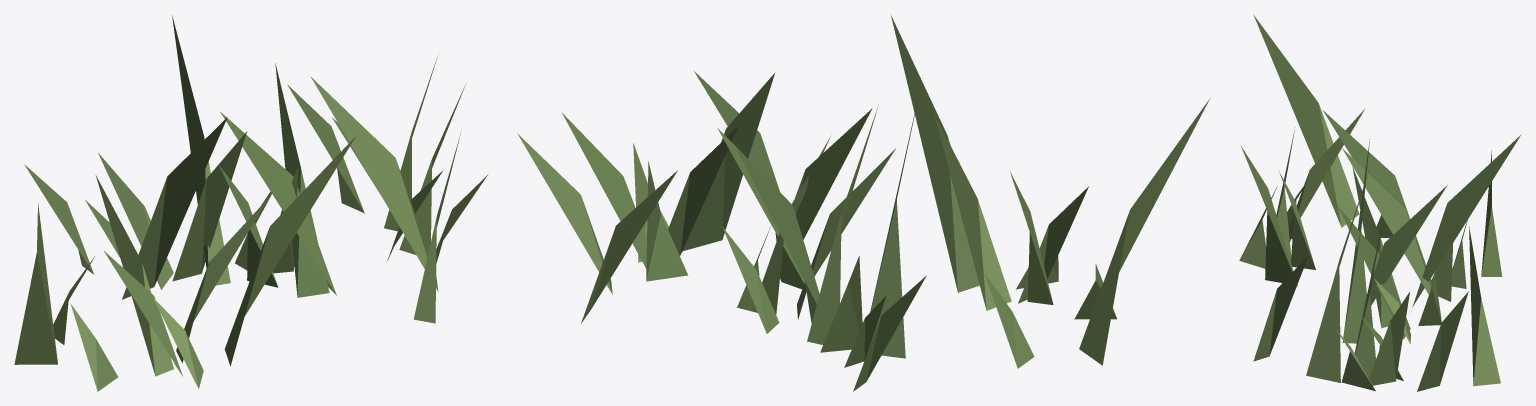
The model's file is grass_clump_a.glb.
3 views of the same model, side by side, from view 1: azimuth 30°, elevation 25°; view 2: azimuth 150°, elevation 25°; view 3: azimuth 270°, elevation 25° (orthographic). The views are drawn at different scales.
Visible parts, largest first — view 1: grass_clump_a; view 2: grass_clump_a; view 3: grass_clump_a.
Boxes of the visible parts, x1=… form: grass_clump_a: x1=14, y1=15, x2=488, y2=391; grass_clump_a: x1=517, y1=14, x2=1210, y2=391; grass_clump_a: x1=1239, y1=15, x2=1521, y2=391.
Bounding box in the file's own units: 1.39 × 0.5473 × 0.7596.
